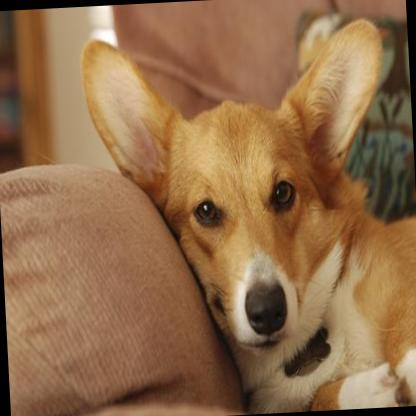Pembroke: (79, 12, 416, 416)
